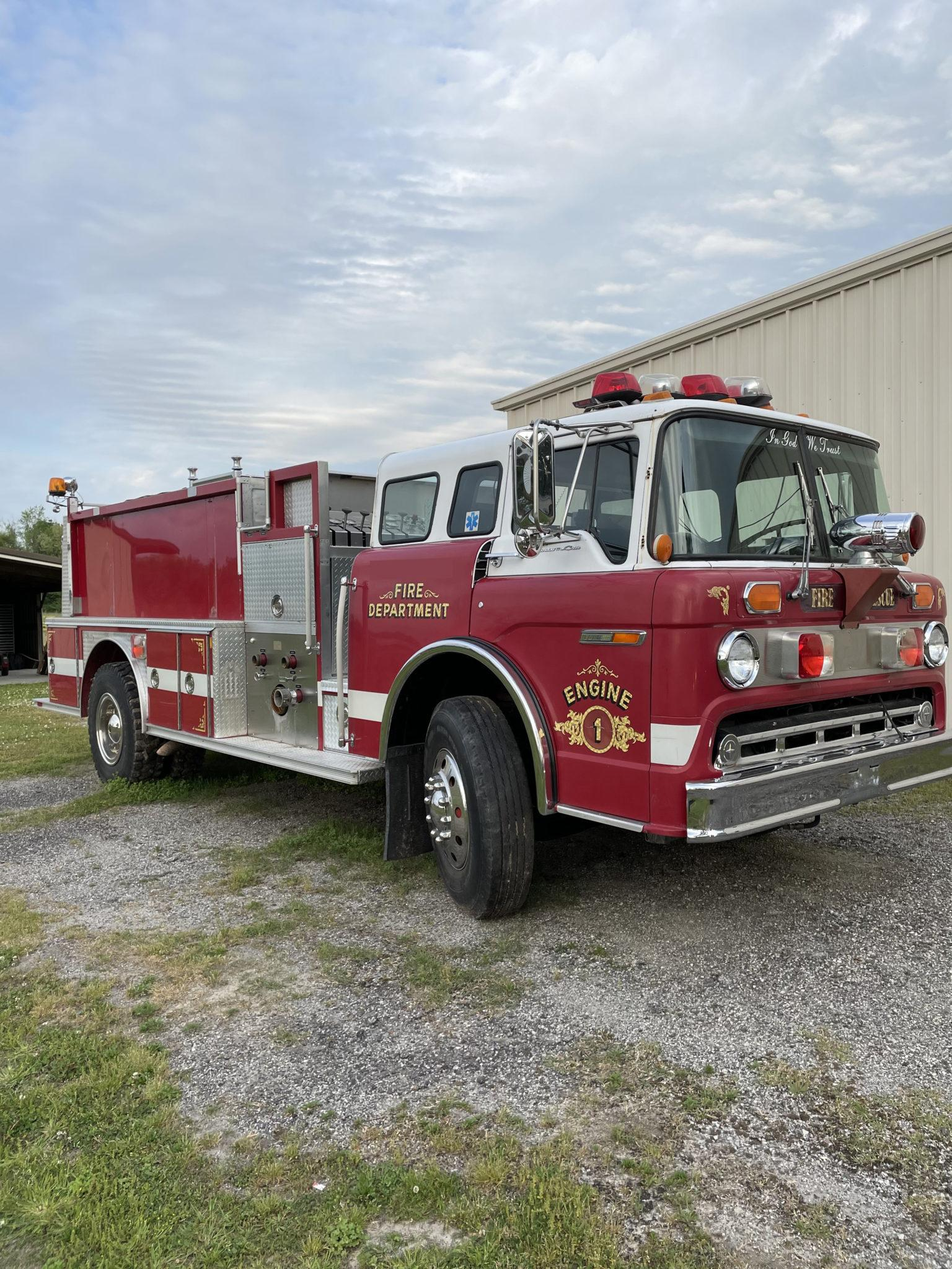Fire-engine: (32, 369, 950, 920)
